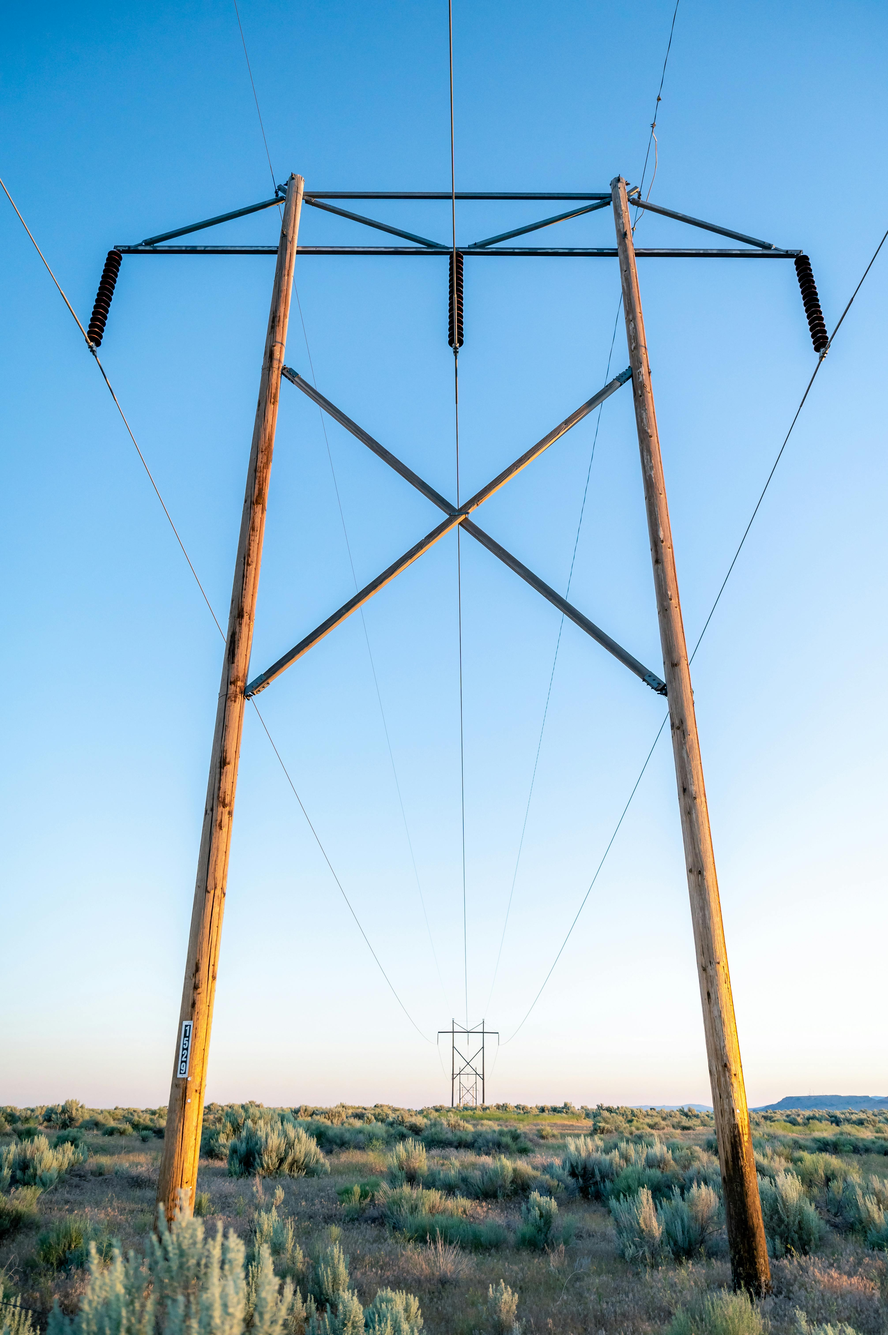insulator: (782, 248, 833, 355), (87, 243, 130, 352), (438, 251, 472, 352)
